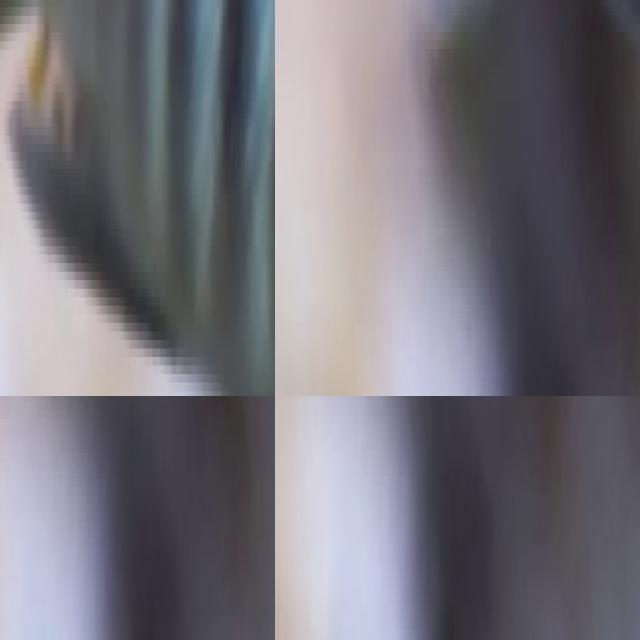fish: (0, 0, 275, 396), (275, 442, 493, 640)
